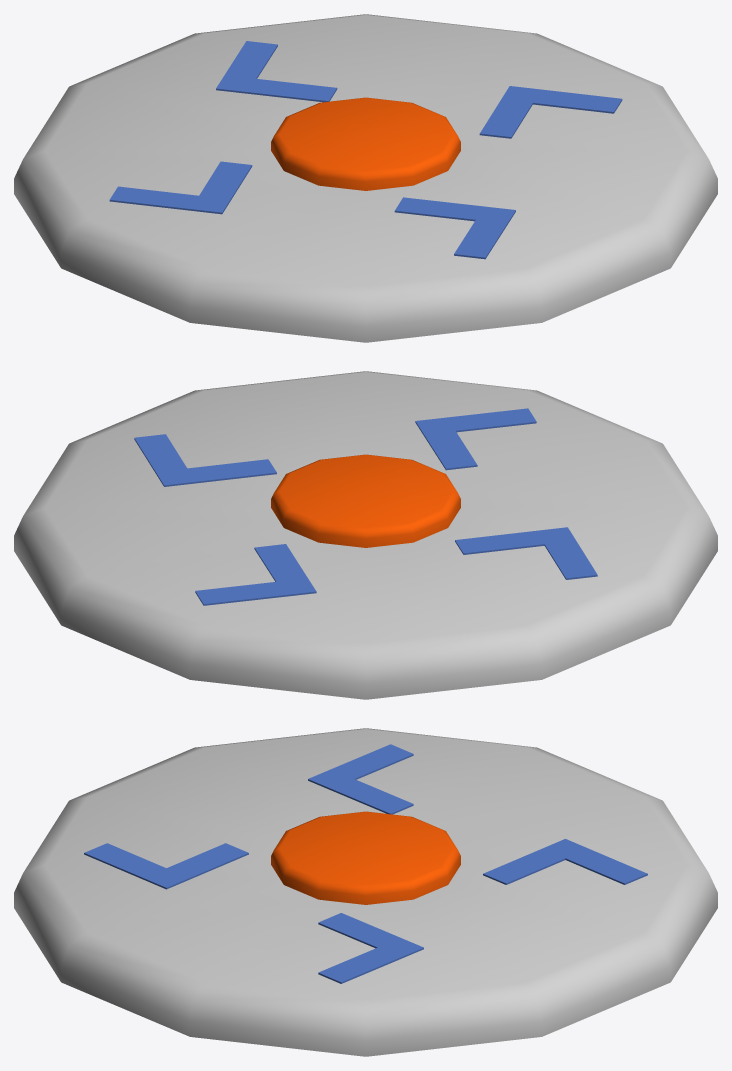
File: Disk_L.fbx
3 views of the same model, one above another, from view 1: azimuth 30°, elevation 25°; view 2: azimuth 150°, elevation 25°; view 3: azimuth 270°, elevation 25° (orthographic).
Parts seen in each view (by area): view 1: Disk_L; view 2: Disk_L; view 3: Disk_L.
Boxes of the visible parts, <box> form: Disk_L: <box>14,14,717,342</box>; Disk_L: <box>14,371,717,699</box>; Disk_L: <box>14,728,717,1056</box>.
Bounding box in the file's own units: 770 × 72.09 × 770.
